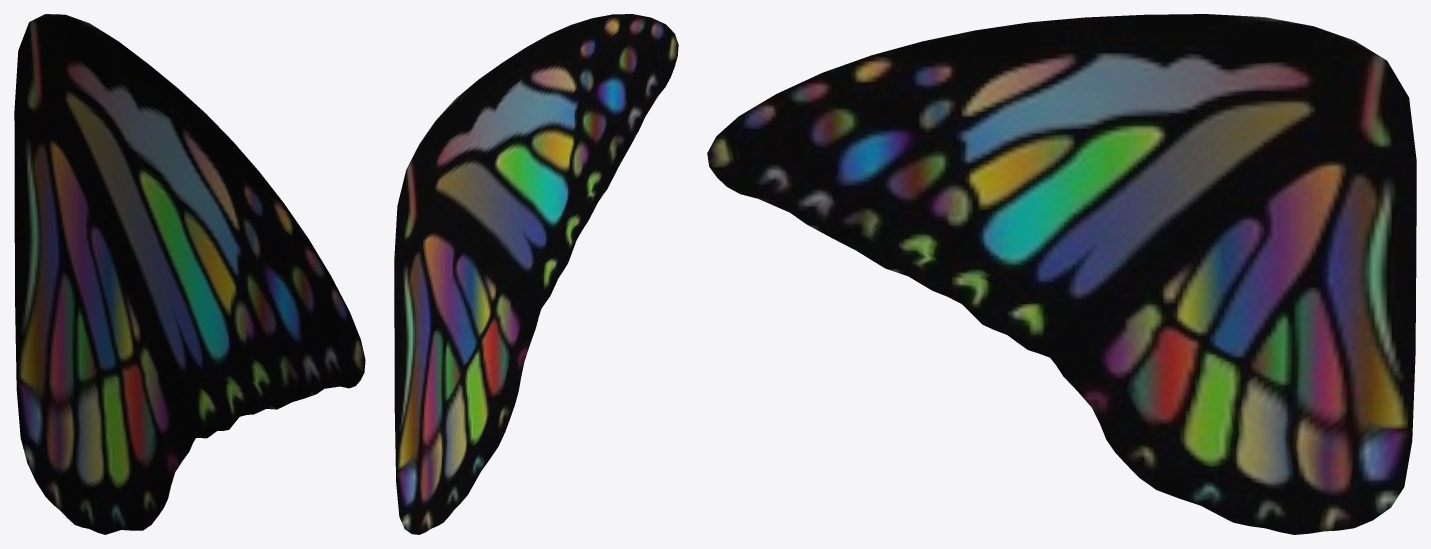
File: butterfly.glb
3 renders of one model, left to right at view 1: azimuth 30°, elevation 25°; view 2: azimuth 150°, elevation 25°; view 3: azimuth 270°, elevation 25°, orthographic. The views are drawn at different scales.
Visible parts, largest first — view 1: wing; view 2: wing; view 3: wing.
Boxes of the visible parts, x1,y1,x2,y2 form: wing: (14, 14, 365, 534); wing: (394, 14, 678, 534); wing: (707, 14, 1416, 534).
Size of the model in its own units: 4.44e-16 by 2 by 2.47.
1 material, 1 textured.
